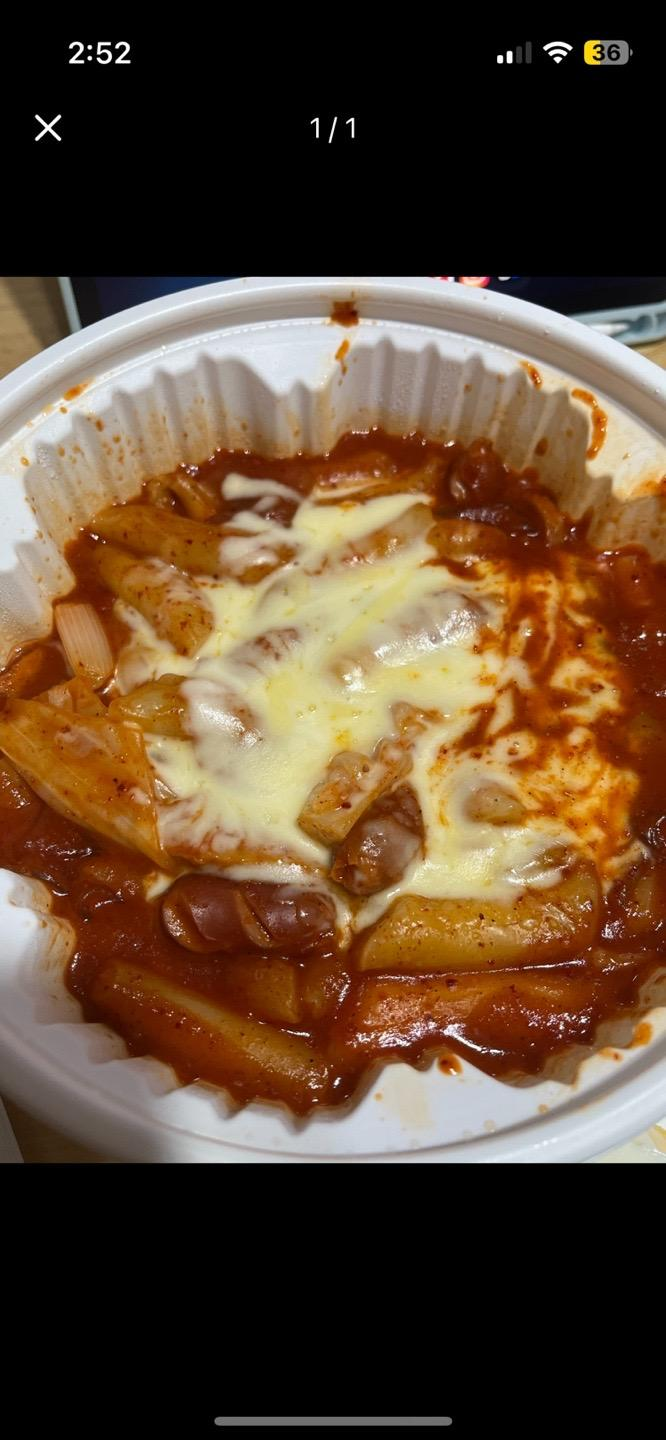Lunch Box: (0, 279, 665, 1165)
